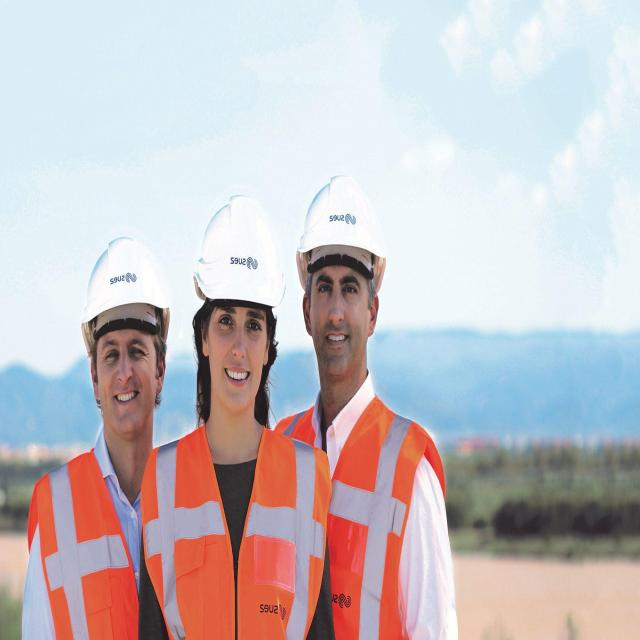Reflective-Jacket: (143, 426, 332, 637), (325, 396, 453, 640), (20, 445, 141, 640)
Safety-Helmet: (192, 183, 288, 314), (294, 166, 394, 272), (78, 224, 174, 332)
